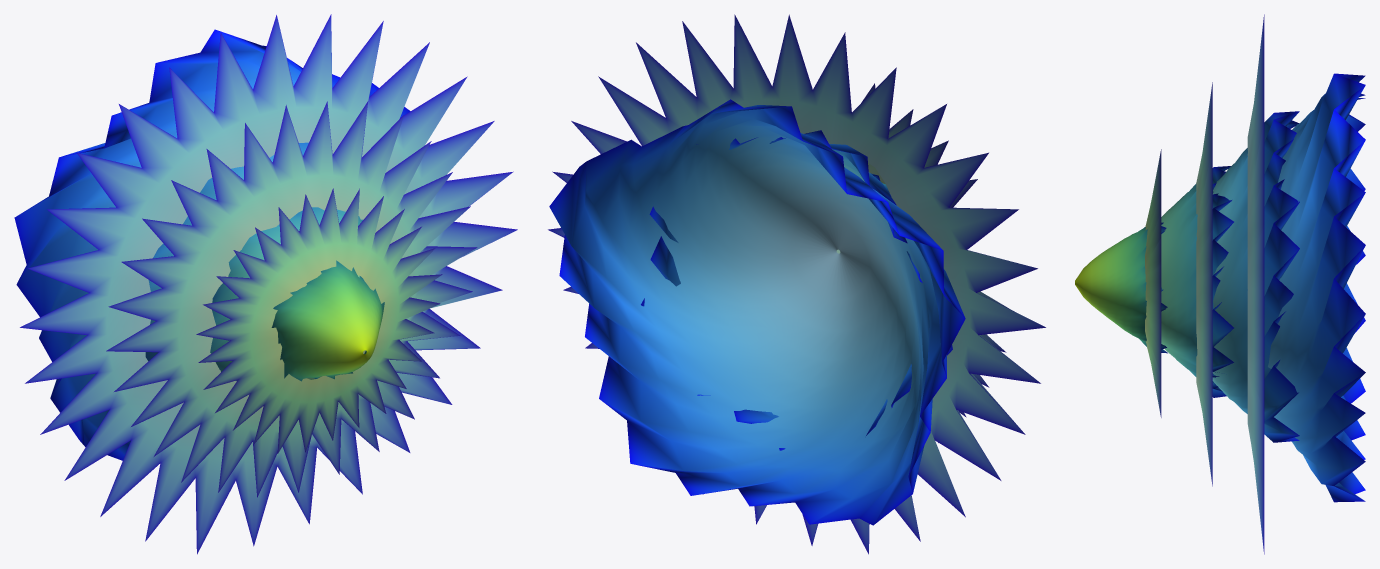
The model's file is vfx_fist_shockcone.glb.
3 views of the same model, side by side, from view 1: azimuth 30°, elevation 25°; view 2: azimuth 150°, elevation 25°; view 3: azimuth 270°, elevation 25° (orthographic). The views are drawn at different scales.
Visible parts, largest first — view 1: fist_shockcone_core; view 2: fist_shockcone_core; view 3: fist_shockcone_core.
Part boxes in pixels (x1,y1,x2,y2): fist_shockcone_core: (14,14,517,554); fist_shockcone_core: (548,14,1045,554); fist_shockcone_core: (1075,14,1365,554).
Bounding box in the file's own units: 2.66 × 2.68 × 1.41.
